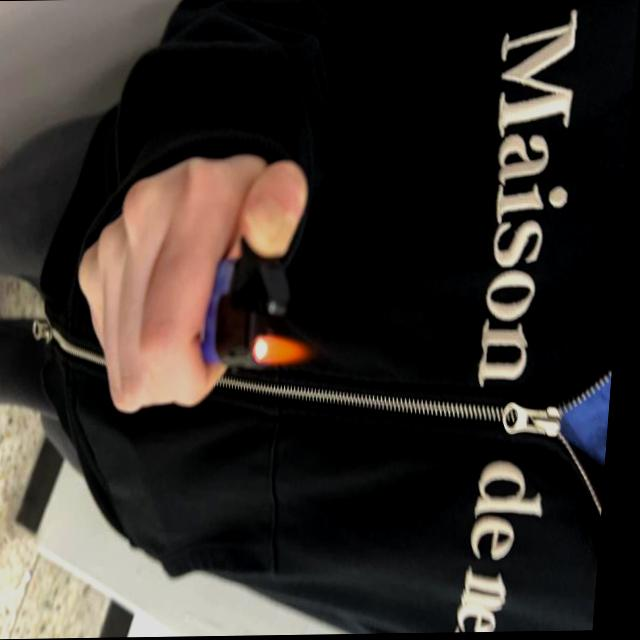Fire: (265, 337, 324, 367)
